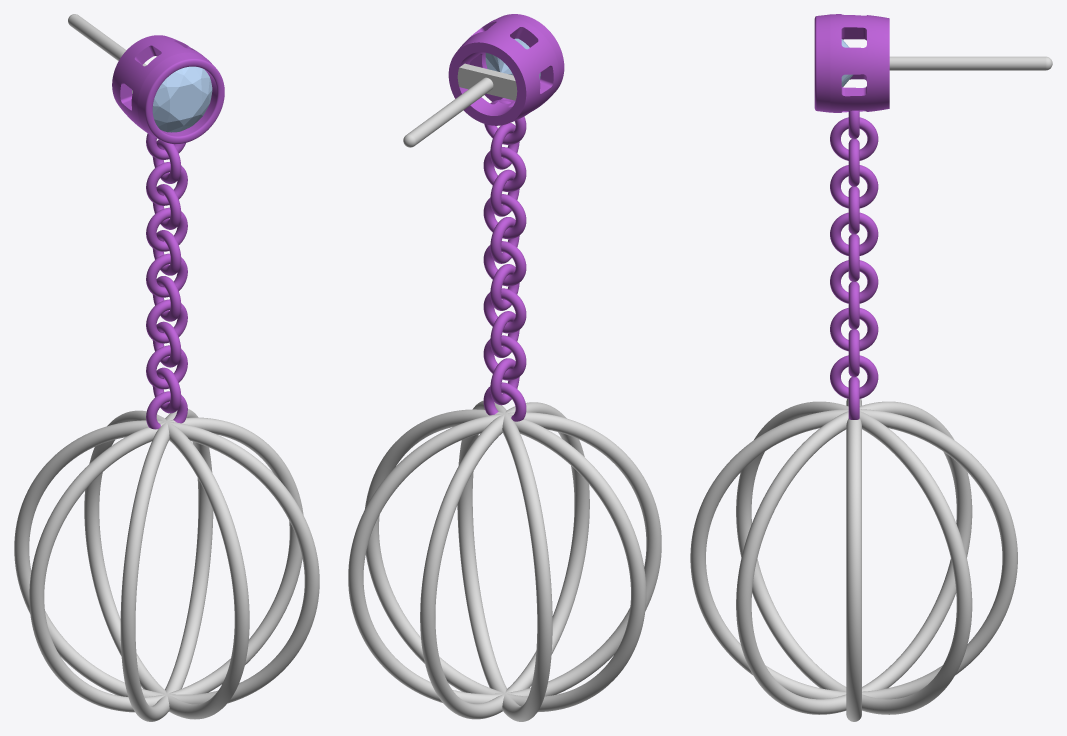
The picture shows the model from 3 angles, left to right: view 1: azimuth 30°, elevation 25°; view 2: azimuth 150°, elevation 25°; view 3: azimuth 270°, elevation 25°; orthographic projection. The views are drawn at different scales.
Parts seen in each view (by area): view 1: EX. 04 - BR. GLOBO.3dm, New_Obj (×12), BEZEL GEM, GG_Round; view 2: EX. 04 - BR. GLOBO.3dm, New_Obj (×13), BEZEL GEM; view 3: EX. 04 - BR. GLOBO.3dm, BEZEL GEM, New_Obj (×6).
Part boxes in pixels (x1,y1,x2,y2): EX. 04 - BR. GLOBO.3dm: (14, 14, 319, 721); New_Obj (×12): (146, 139, 187, 429); BEZEL GEM: (112, 35, 224, 143); GG_Round: (152, 66, 212, 132); EX. 04 - BR. GLOBO.3dm: (348, 63, 661, 721); New_Obj (×13): (483, 99, 526, 421); BEZEL GEM: (448, 14, 564, 125); EX. 04 - BR. GLOBO.3dm: (690, 56, 1052, 721); BEZEL GEM: (814, 14, 889, 112); New_Obj (×6): (830, 117, 878, 398).
Bounding box in the file's own units: 1.45 × 3.36 × 1.61.
